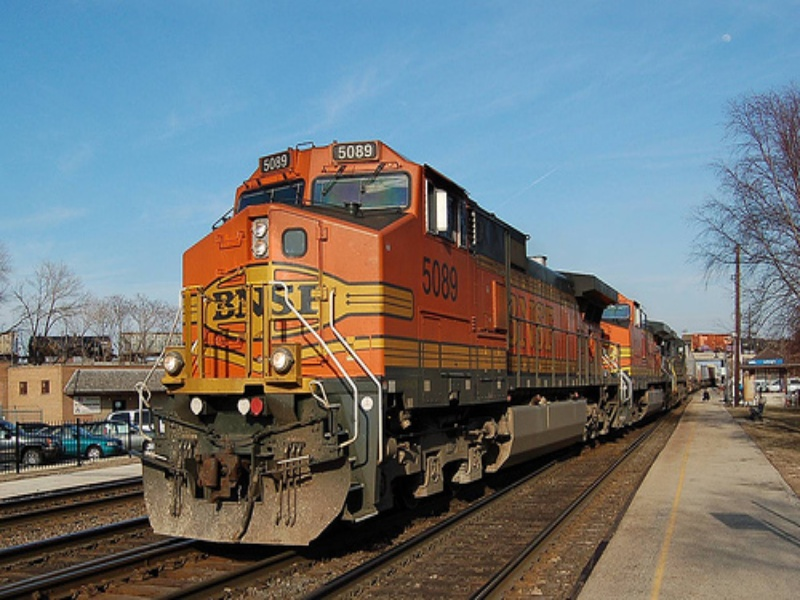car: (36, 424, 123, 459), (1, 418, 64, 466)
